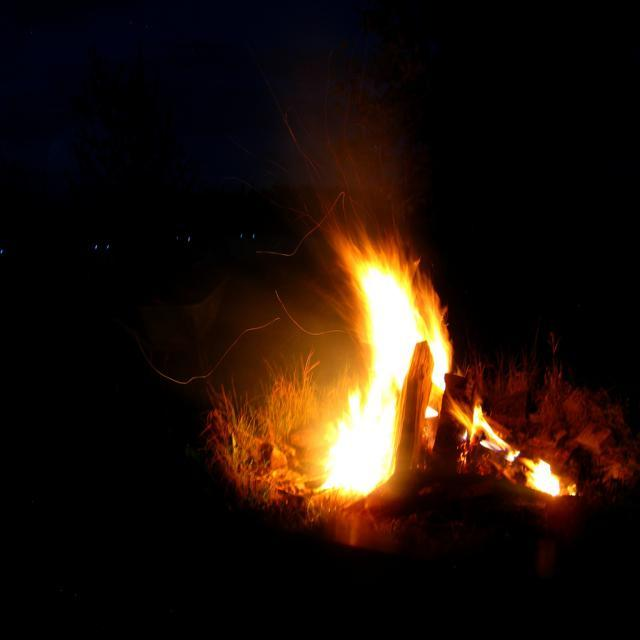Fire: (325, 376, 410, 498), (360, 256, 412, 361), (532, 452, 562, 502)
